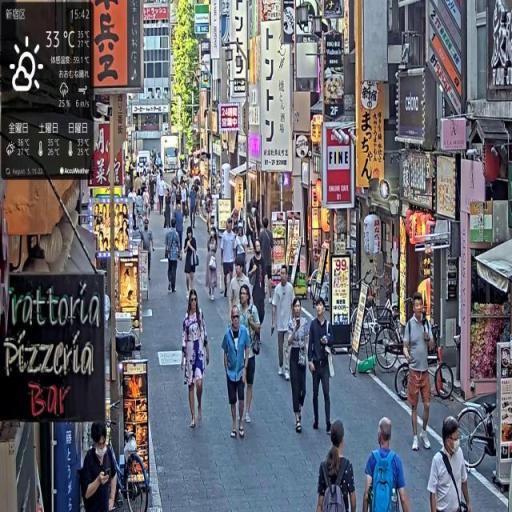person: (404, 295, 438, 456), (362, 415, 411, 512), (427, 416, 474, 512), (182, 289, 211, 432), (222, 304, 251, 440), (316, 420, 358, 512), (237, 285, 263, 427), (287, 294, 312, 439), (309, 299, 335, 436), (271, 263, 297, 382), (81, 422, 115, 512), (247, 241, 269, 340), (221, 219, 238, 300), (165, 219, 182, 293), (184, 227, 201, 299), (206, 227, 220, 301), (141, 218, 156, 284)
